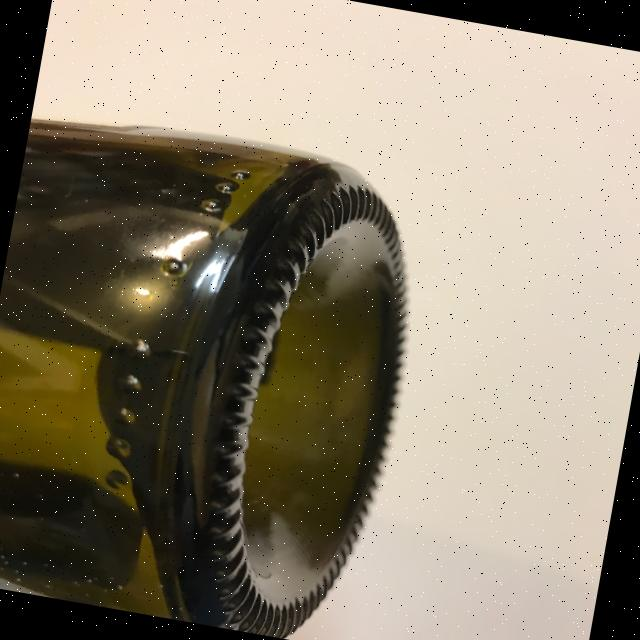glass: (0, 101, 439, 640)
